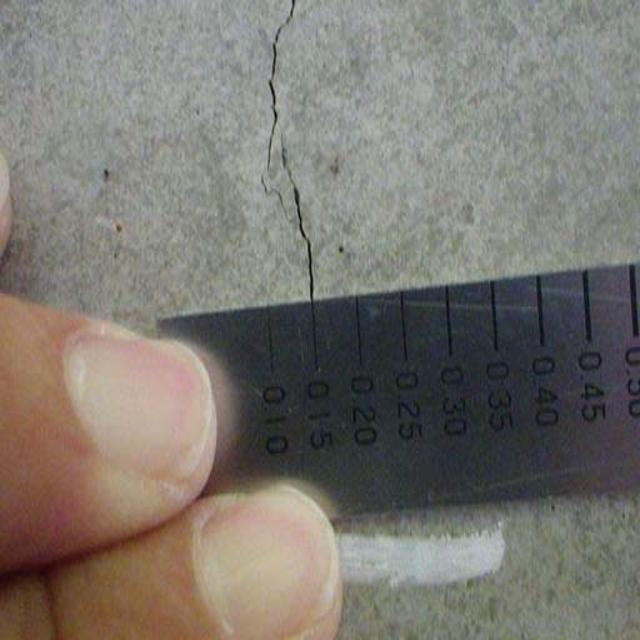crack: (255, 7, 342, 296)
